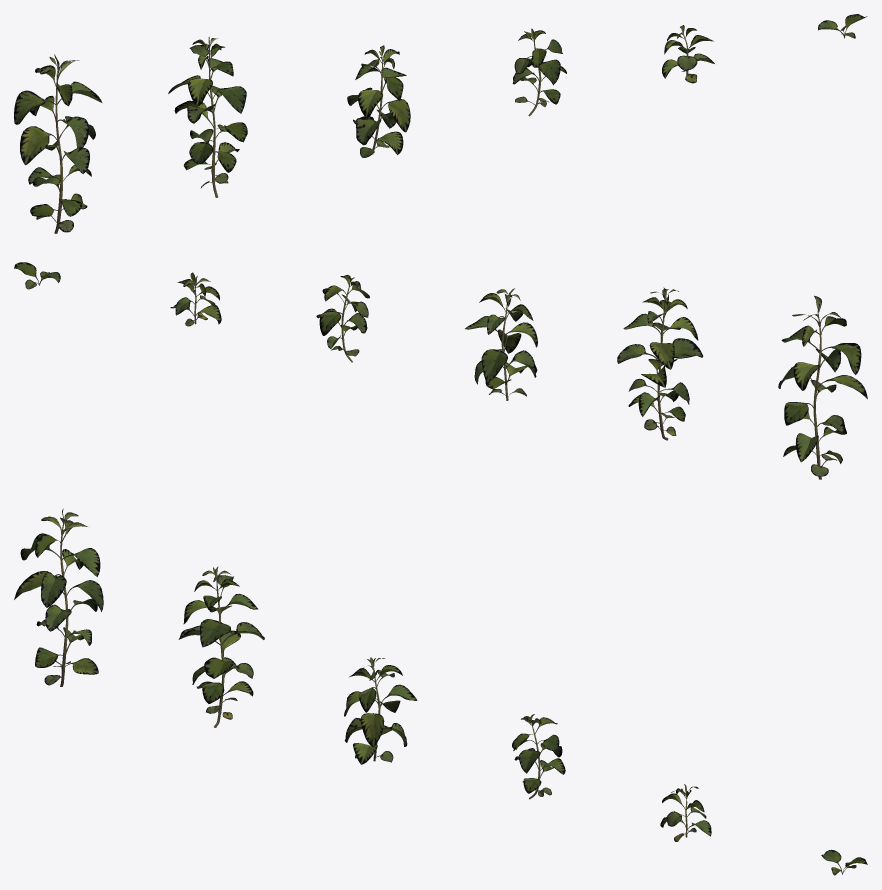
The model's file is nettle_plant_lod1.glb.
3 renders of one model, top to bottom at view 1: azimuth 30°, elevation 25°; view 2: azimuth 150°, elevation 25°; view 3: azimuth 330°, elevation 25°, orthographic.
Visible parts, largest first — view 1: nettle_plant_medium_a_LOD0; view 2: nettle_plant_medium_a_LOD0; view 3: nettle_plant_medium_a_LOD0.
Boxes of the visible parts, box(x1,y1,x2,y2) form: nettle_plant_medium_a_LOD0: box(14, 14, 867, 233); nettle_plant_medium_a_LOD0: box(14, 262, 867, 479); nettle_plant_medium_a_LOD0: box(14, 508, 867, 875).
Size of the model in its own units: 1.08 by 0.2184 by 0.0946.
1 material, 1 textured.
